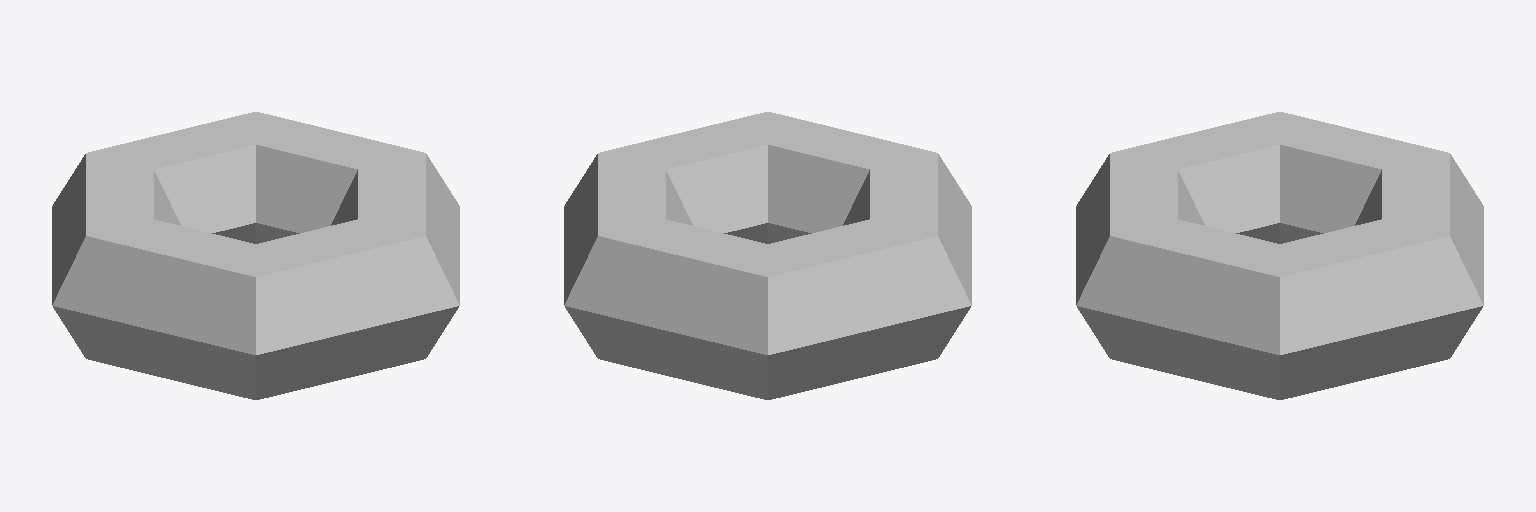
The model's file is airplane.obj.
3 renders of one model, left to right at view 1: azimuth 30°, elevation 25°; view 2: azimuth 150°, elevation 25°; view 3: azimuth 270°, elevation 25°, orthographic.
Visible parts, largest first — view 1: pTorus1; view 2: pTorus1; view 3: pTorus1.
Boxes of the visible parts, x1,y1,x2,y2 form: pTorus1: [52, 112, 459, 399]; pTorus1: [564, 112, 971, 399]; pTorus1: [1076, 112, 1483, 399].
Size of the model in its own units: 3 by 0.866 by 2.6.